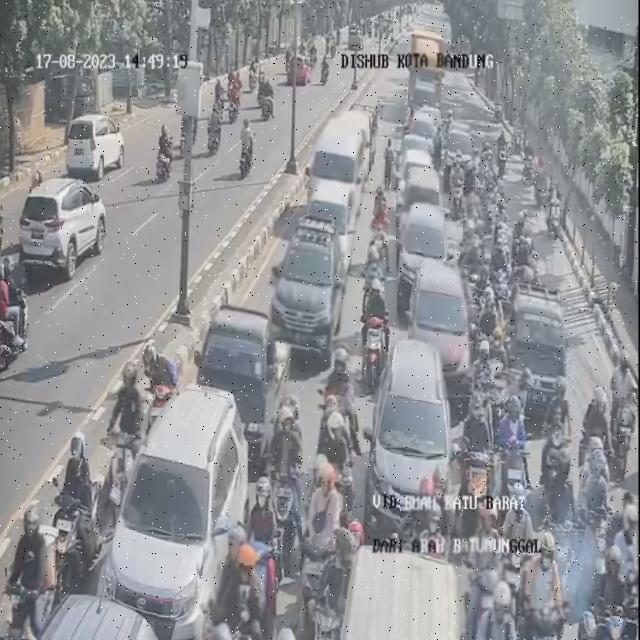bus: (310, 111, 369, 218)
cars: (95, 384, 253, 637), (195, 305, 293, 469), (365, 343, 448, 536), (270, 218, 351, 357), (341, 546, 459, 638), (409, 260, 472, 400), (512, 285, 567, 415), (396, 197, 453, 313), (47, 593, 157, 639), (308, 181, 354, 273), (397, 167, 444, 246), (396, 152, 439, 205), (447, 124, 474, 189), (411, 112, 441, 149)
motorcycle: (51, 431, 101, 591), (8, 504, 62, 639), (203, 530, 269, 640), (310, 350, 364, 480), (302, 463, 345, 621), (462, 510, 515, 629), (455, 382, 499, 525), (108, 361, 145, 529), (541, 447, 584, 590), (576, 436, 615, 589), (246, 471, 283, 629), (521, 533, 573, 636), (401, 462, 454, 558), (584, 545, 640, 631), (358, 279, 397, 400), (271, 412, 301, 556), (500, 394, 534, 515), (543, 379, 573, 503), (494, 481, 542, 557), (605, 348, 634, 472), (606, 497, 640, 601), (142, 344, 183, 426), (576, 391, 612, 480), (472, 575, 523, 637), (489, 317, 514, 398), (441, 151, 466, 220), (366, 219, 388, 287), (476, 340, 496, 412), (461, 224, 488, 268), (463, 190, 488, 234), (446, 154, 464, 213), (517, 229, 537, 281), (546, 182, 564, 236), (513, 206, 533, 253), (534, 156, 550, 213), (485, 276, 502, 327), (520, 135, 538, 183), (482, 163, 502, 204), (468, 272, 497, 300), (465, 247, 489, 275), (481, 142, 496, 186), (491, 252, 508, 289), (474, 284, 497, 311), (476, 136, 495, 168), (496, 135, 511, 173), (375, 190, 388, 223), (497, 216, 509, 241)
truck: (408, 32, 449, 106)
